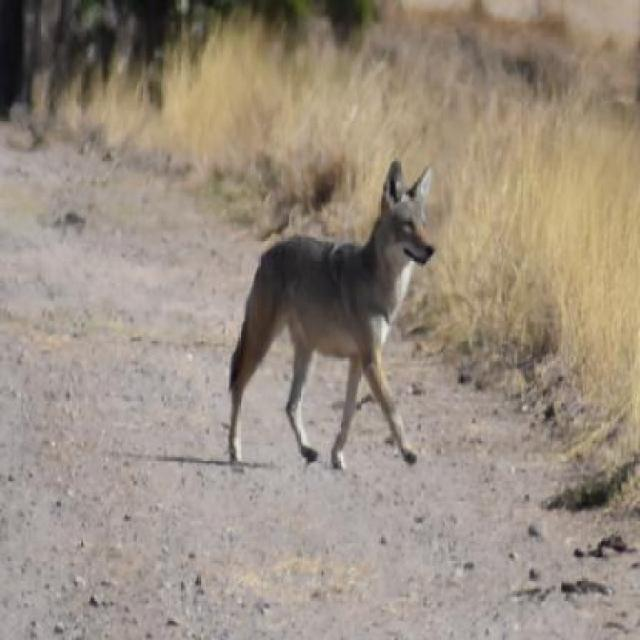Coyote: (228, 158, 437, 470)
